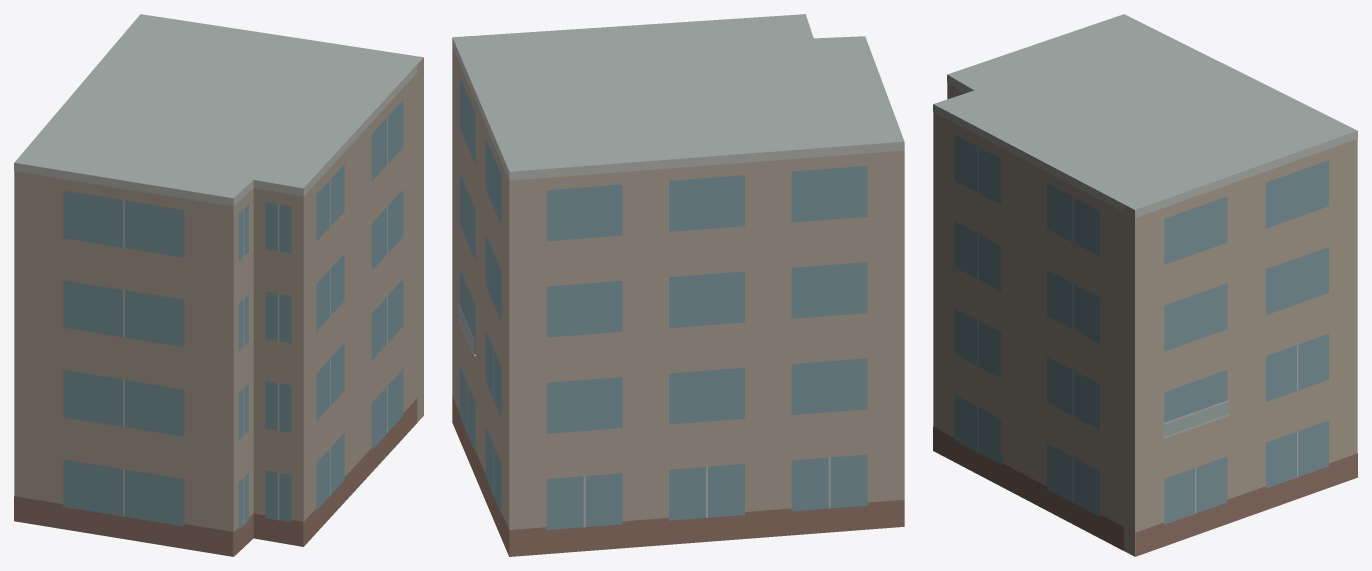
Rendered from survey-upis-33021541.glb.
3 renders of one model, left to right at view 1: azimuth 30°, elevation 25°; view 2: azimuth 150°, elevation 25°; view 3: azimuth 270°, elevation 25°, orthographic. The views are drawn at different scales.
Parts seen in each view (by area): view 1: survey-upis-33021541.tmp; view 2: survey-upis-33021541.tmp; view 3: survey-upis-33021541.tmp.
Part boxes in pixels (x1,y1,x2,y2): survey-upis-33021541.tmp: (14, 14, 423, 556); survey-upis-33021541.tmp: (452, 14, 904, 556); survey-upis-33021541.tmp: (933, 14, 1357, 556).
Bounding box in the file's own units: 12.86 × 10.6 × 11.77.
